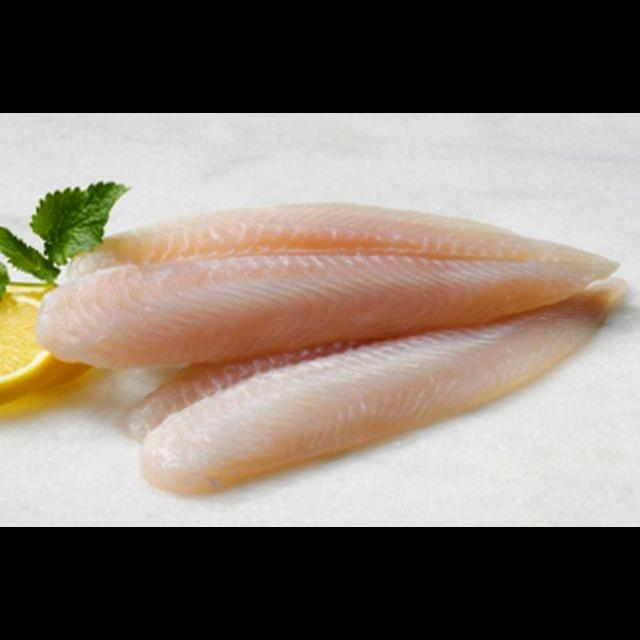fish: (34, 188, 625, 383)
